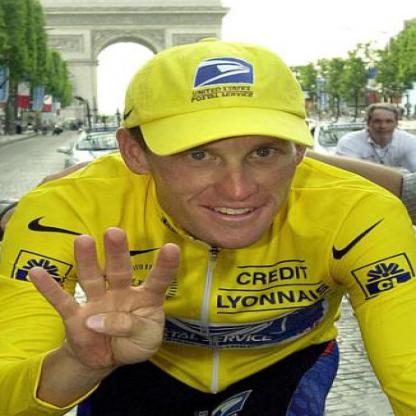face: (148, 52, 303, 252), (372, 110, 399, 139)
